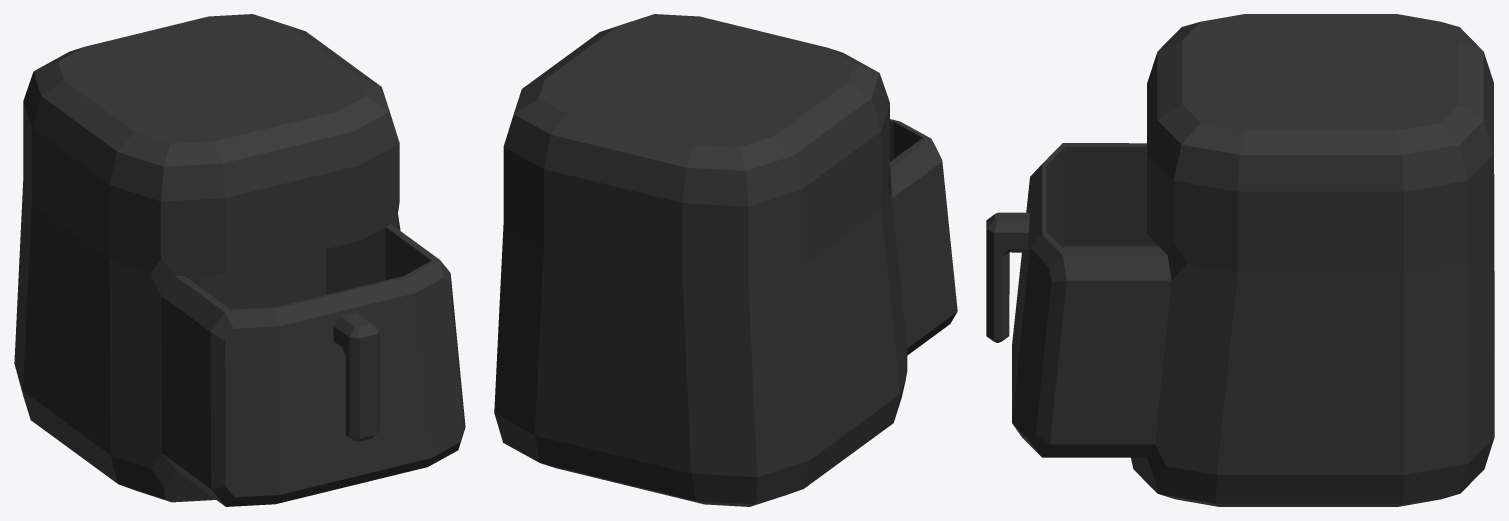
The model's file is AirFryed.fbx.
The picture shows the model from 3 angles, left to right: view 1: azimuth 30°, elevation 25°; view 2: azimuth 150°, elevation 25°; view 3: azimuth 270°, elevation 25°; orthographic projection. The views are drawn at different scales.
Visible parts, largest first — view 1: AirFryer; view 2: AirFryer; view 3: AirFryer.
Part boxes in pixels (x1,y1,x2,y2): AirFryer: (14, 14, 465, 506); AirFryer: (494, 14, 957, 506); AirFryer: (986, 14, 1494, 506).
Bounding box in the file's own units: 0.2836 × 0.3148 × 0.3916.
1 material, 1 textured.
